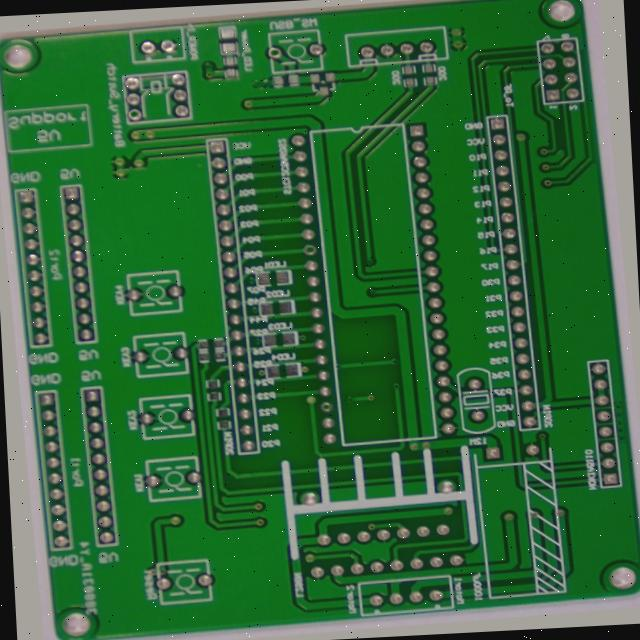missing_hole: (312, 400, 331, 417), (126, 97, 147, 112), (302, 240, 320, 256), (275, 37, 294, 52)
